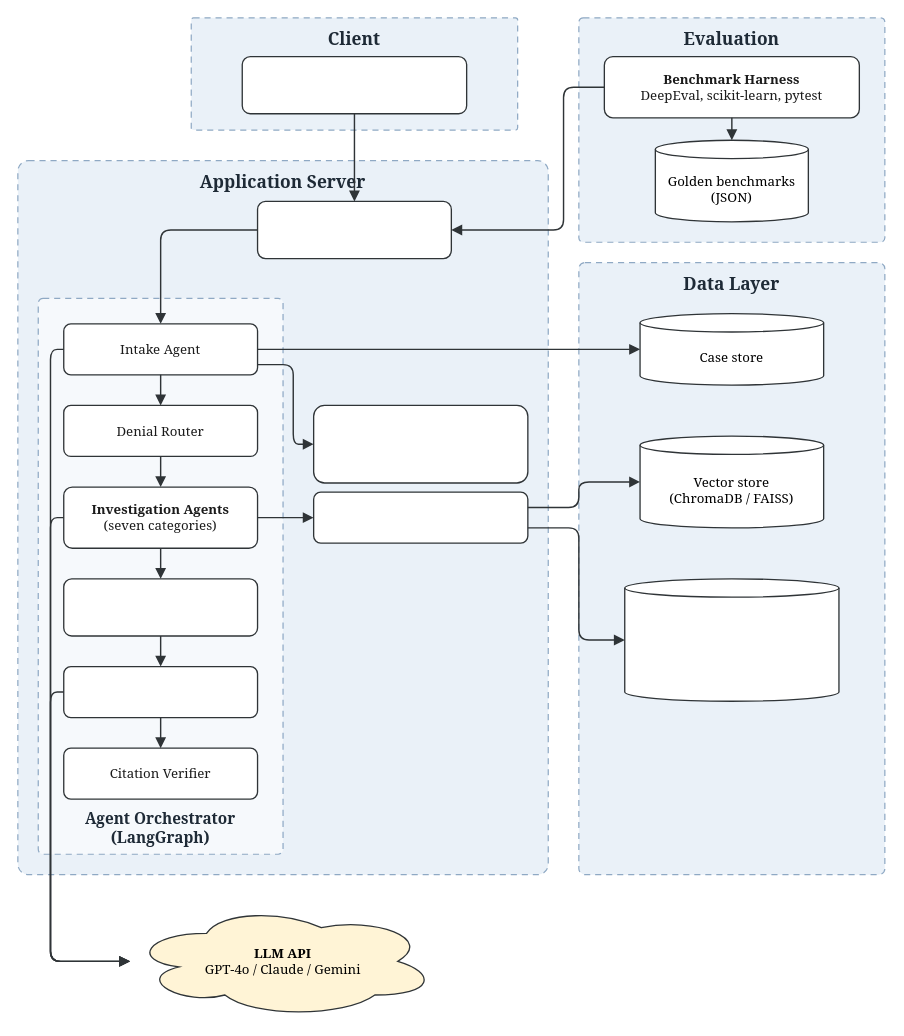
Some shapes in this 904 by 1036 pixel diagram are drawn without their labels. Each missing label, with the centre of its shape:
Document Parser PyMuPDF, pdfplumber, Tesseract OCR: point 420,443
Drafting Agent: point 160,691
MCP Tool Servers: point 420,517
Reasoner rules + Toulmin: point 160,607
REST API FastAPI: point 354,229
Review Dashboard Streamlit / Next.js: point 354,84
Runtime tables (clauses, taxonomy, codes, NME schedule): point 731,639
